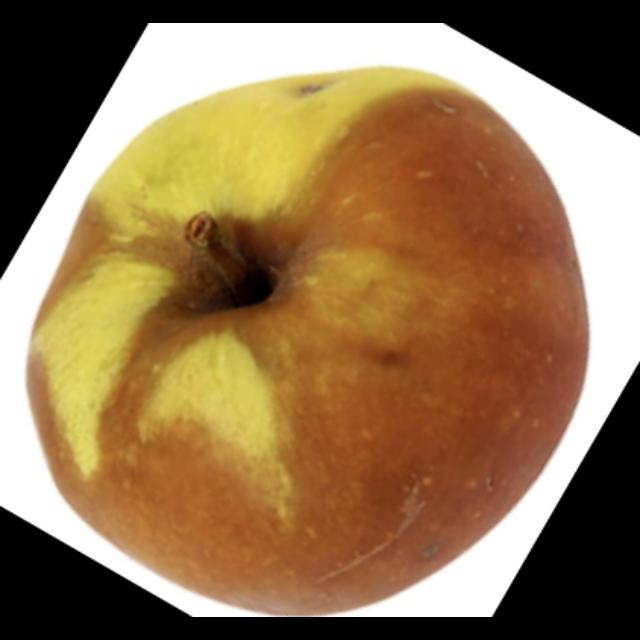Apel Tidak Segar: (45, 68, 588, 614)
